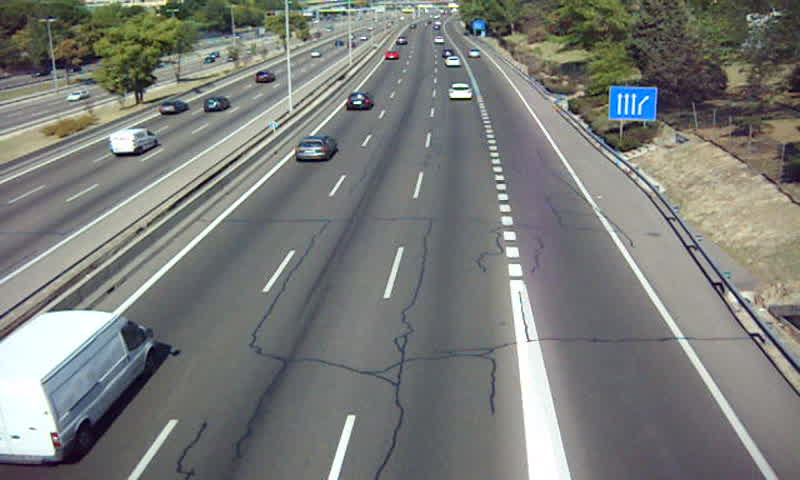car: (295, 136, 338, 161), (345, 91, 372, 111), (446, 82, 474, 101), (444, 56, 463, 68), (384, 50, 402, 61)
van: (1, 311, 152, 467)
